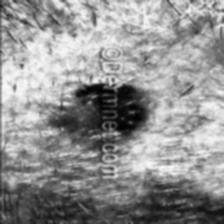Potentially Malignant Skin Tumors: (82, 82, 140, 130)
